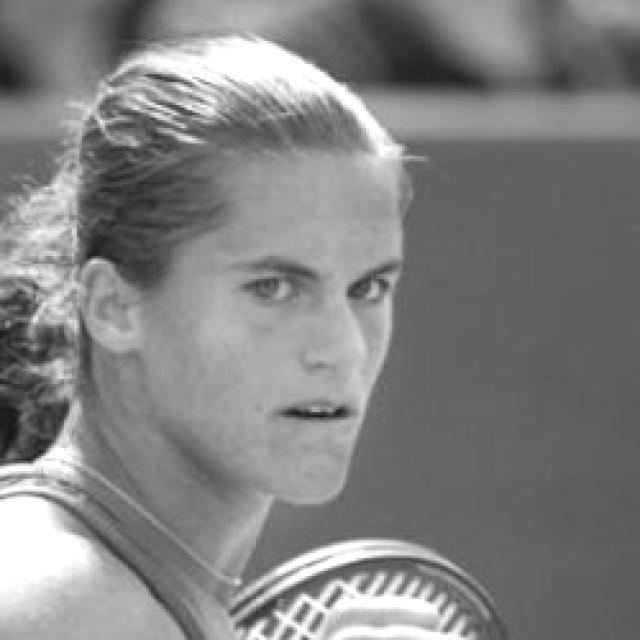real: (178, 135, 407, 523), (204, 233, 388, 325)
